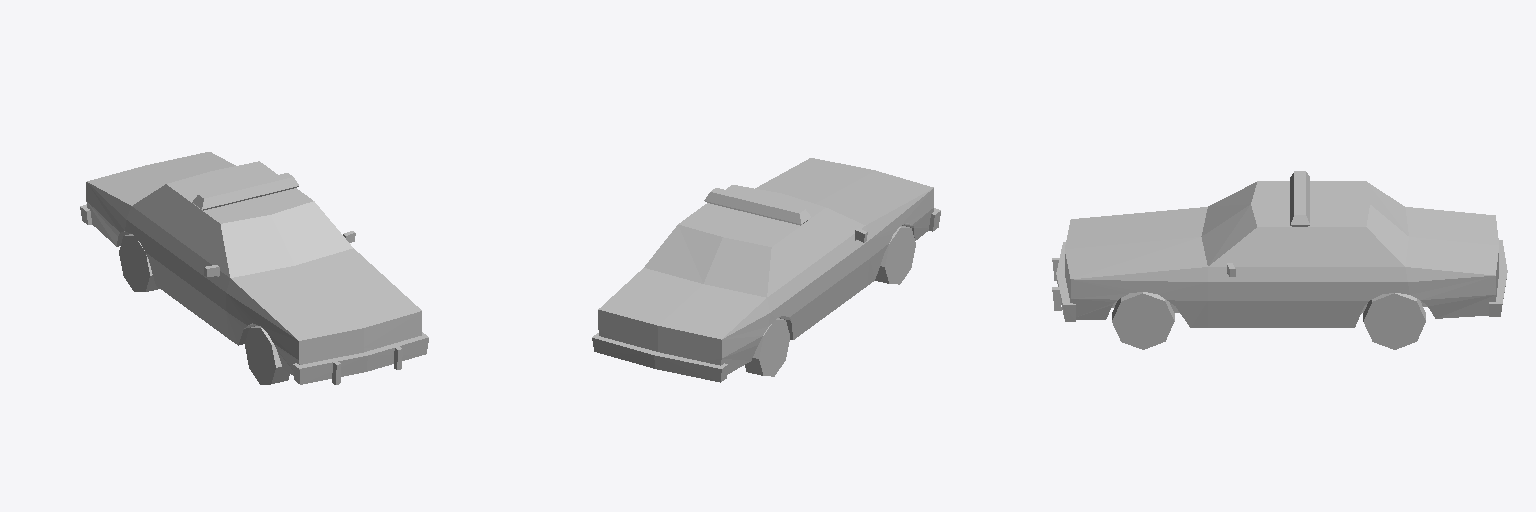
Rendered from Car5_Police.obj.
3 views of the same model, side by side, from view 1: azimuth 30°, elevation 25°; view 2: azimuth 150°, elevation 25°; view 3: azimuth 270°, elevation 25° (orthographic).
Visible parts, largest first — view 1: Car5_Police; view 2: Car5_Police; view 3: Car5_Police.
Boxes of the visible parts, x1,y1,x2,y2 form: Car5_Police: [80, 152, 428, 384]; Car5_Police: [592, 158, 940, 382]; Car5_Police: [1052, 171, 1507, 349].
Size of the model in its own units: 83.44 by 67.35 by 221.